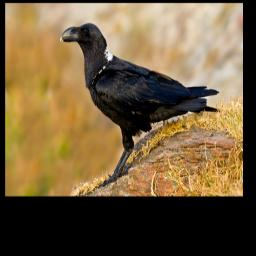Crow: (59, 23, 220, 188)
